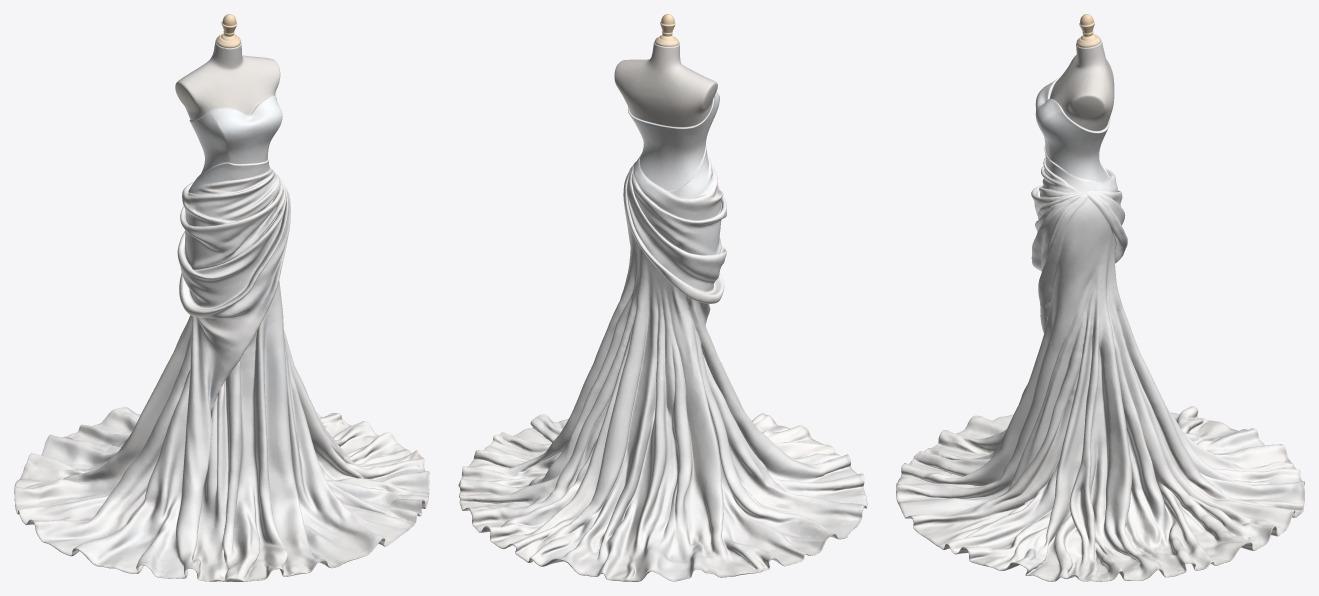
File: ivory-cascade.glb
The picture shows the model from 3 angles, left to right: view 1: azimuth 30°, elevation 25°; view 2: azimuth 150°, elevation 25°; view 3: azimuth 270°, elevation 25°; orthographic projection.
Bounding box in the file's own units: 1.5 × 1.9 × 1.46.
Materials: 1 (1 with a texture image).
